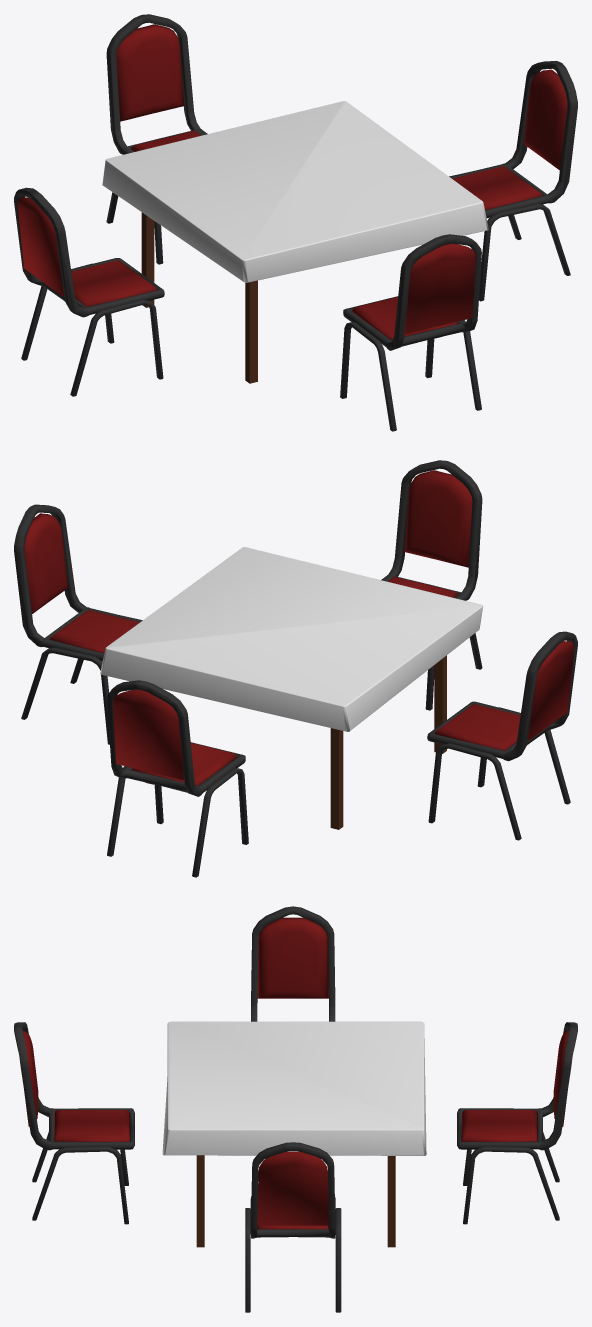
The model's file is TableAndChair.fbx.
The picture shows the model from 3 angles, top to bottom: view 1: azimuth 30°, elevation 25°; view 2: azimuth 150°, elevation 25°; view 3: azimuth 270°, elevation 25°; orthographic projection. The views are drawn at different scales.
Visible parts, largest first — view 1: TableCloth, Chair_1, Chair_4, Chair_3, Chair_2, Table; view 2: TableCloth, Chair_2, Chair_4, Chair_3, Chair_1, Table; view 3: TableCloth, Chair_3, Chair_4, Chair_1, Chair_2, Table.
Part boxes in pixels (x1,y1,x2,y2): TableCloth: (102,101,488,282); Chair_1: (340,234,481,431); Chair_4: (14,187,164,396); Chair_3: (449,61,577,301); Chair_2: (106,14,207,264); Table: (141,212,440,383); TableCloth: (100,547,483,731); Chair_2: (107,680,248,877); Chair_4: (427,631,577,840); Chair_3: (14,504,142,744); Chair_1: (381,460,482,710); Table: (145,655,446,829); TableCloth: (162,1021,426,1155); Chair_3: (245,1142,341,1312); Chair_4: (251,906,335,1021); Chair_1: (14,1022,134,1224); Chair_2: (457,1022,577,1224); Table: (196,1155,395,1247).
Bounding box in the file's own units: 1290 × 449 × 1283.
